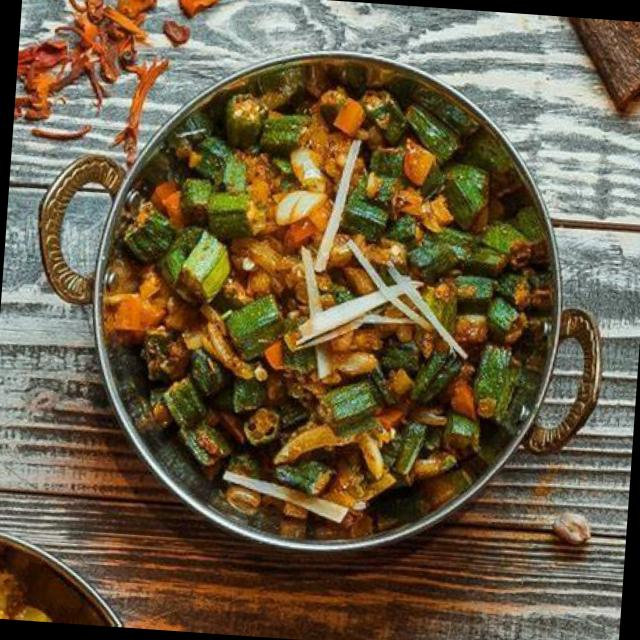BhindiMasala: (95, 64, 564, 541)
